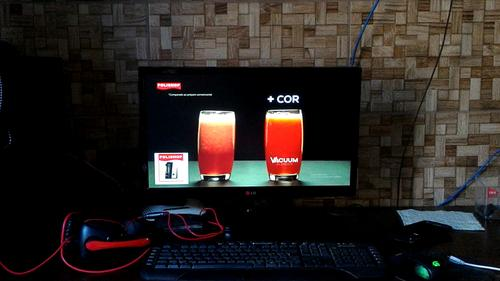Polishop #1: (154, 151, 189, 185)
